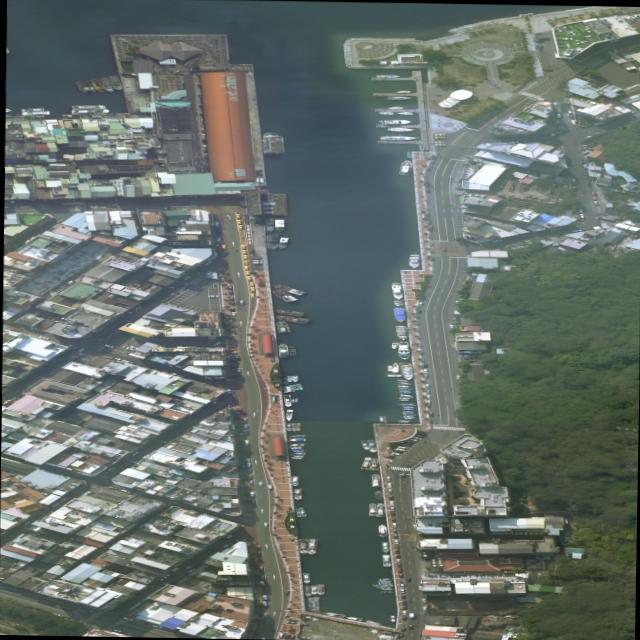large-vehicle: (381, 553, 390, 565), (408, 612, 413, 617)
ship: (260, 131, 283, 153), (269, 282, 305, 294), (267, 287, 297, 301), (273, 313, 309, 323), (272, 307, 303, 316), (74, 79, 95, 92), (397, 158, 412, 174), (69, 107, 109, 113), (98, 76, 114, 91), (106, 74, 122, 89), (397, 340, 409, 358), (391, 306, 405, 321), (390, 281, 402, 298), (378, 134, 418, 139), (89, 78, 104, 91), (273, 319, 289, 331), (400, 364, 413, 378), (394, 324, 407, 338), (265, 233, 277, 248), (276, 342, 288, 356), (407, 253, 419, 267), (305, 538, 316, 553), (377, 118, 410, 123), (322, 610, 345, 617), (359, 455, 371, 468), (19, 109, 49, 114), (276, 236, 288, 248), (70, 104, 105, 108), (263, 216, 273, 230), (273, 218, 284, 230), (366, 438, 376, 451), (297, 538, 306, 552), (376, 523, 386, 535), (362, 618, 382, 624), (385, 126, 413, 130), (285, 344, 296, 354), (385, 95, 412, 99), (283, 408, 292, 420), (375, 502, 383, 515), (370, 472, 378, 485), (19, 107, 44, 111), (368, 457, 377, 468), (282, 393, 290, 405), (367, 502, 375, 514), (344, 615, 362, 620), (302, 584, 310, 595), (292, 487, 300, 498), (459, 349, 486, 352), (359, 439, 368, 448), (380, 541, 388, 551), (301, 572, 309, 581), (297, 506, 305, 515), (373, 489, 381, 498), (374, 73, 398, 76), (390, 361, 397, 371), (316, 583, 323, 593), (370, 582, 393, 585), (396, 110, 412, 114), (290, 475, 297, 484), (293, 507, 300, 515), (388, 612, 395, 620), (388, 341, 397, 347), (310, 584, 316, 593), (287, 437, 305, 440), (284, 421, 290, 430), (376, 110, 393, 113), (288, 384, 295, 391), (397, 401, 413, 404), (288, 433, 304, 436), (291, 383, 299, 389), (394, 89, 409, 92), (289, 442, 304, 445), (290, 421, 295, 430), (392, 299, 399, 305), (288, 455, 302, 458), (284, 384, 291, 390), (285, 374, 291, 381), (291, 374, 297, 381), (398, 392, 411, 395), (395, 380, 408, 383), (395, 378, 407, 381), (401, 409, 413, 412), (400, 410, 412, 413), (289, 445, 301, 448), (291, 453, 303, 456), (377, 415, 383, 421), (385, 363, 390, 370), (373, 585, 390, 587), (403, 415, 414, 418), (385, 373, 401, 375), (386, 105, 402, 107), (295, 421, 299, 429), (375, 579, 390, 581), (398, 419, 411, 421), (305, 597, 318, 599), (398, 390, 410, 392), (396, 385, 408, 387), (396, 384, 408, 386), (291, 449, 303, 451), (306, 607, 318, 609), (380, 587, 392, 589), (377, 577, 389, 579), (402, 405, 413, 407), (397, 398, 408, 400), (397, 396, 408, 398), (402, 414, 413, 416), (293, 451, 304, 453), (307, 602, 318, 604), (306, 599, 317, 601), (306, 604, 317, 606), (293, 396, 297, 401), (377, 581, 391, 582), (290, 397, 293, 401), (306, 596, 318, 597), (306, 601, 318, 602), (402, 407, 413, 408), (398, 389, 409, 390), (307, 606, 318, 607)
small-vehicle: (417, 428, 428, 433), (138, 596, 148, 601), (48, 501, 58, 506), (211, 340, 221, 345), (393, 446, 405, 450), (150, 623, 162, 627), (105, 465, 114, 470), (410, 435, 421, 439), (403, 438, 414, 442), (396, 444, 407, 448), (382, 454, 393, 458), (133, 617, 144, 621), (121, 615, 132, 619), (127, 344, 138, 348), (28, 325, 39, 329), (37, 334, 48, 338), (119, 488, 130, 492), (111, 627, 121, 631), (8, 327, 18, 331), (413, 433, 423, 437), (415, 431, 425, 435), (130, 491, 140, 495), (126, 605, 135, 609), (131, 601, 140, 605), (186, 567, 195, 571), (81, 490, 90, 494), (537, 36, 549, 39), (56, 497, 65, 501), (129, 450, 138, 454), (202, 260, 211, 264), (203, 270, 212, 274), (224, 387, 233, 391), (242, 428, 249, 433), (282, 632, 289, 637), (399, 442, 410, 445), (389, 451, 400, 454), (533, 39, 544, 42), (580, 149, 588, 153), (223, 533, 231, 537), (181, 274, 189, 278), (392, 449, 402, 452), (416, 300, 422, 305), (130, 343, 140, 346), (569, 118, 575, 123), (243, 439, 249, 444), (400, 599, 406, 604), (283, 588, 288, 594), (124, 346, 134, 349), (102, 343, 112, 346), (79, 357, 89, 360), (106, 485, 116, 488), (276, 631, 282, 636), (288, 633, 294, 638), (202, 375, 212, 378), (393, 548, 400, 552), (427, 411, 434, 415), (394, 553, 401, 557), (408, 437, 417, 440), (385, 452, 394, 455), (386, 481, 391, 486), (386, 487, 391, 492), (423, 382, 428, 387), (422, 362, 427, 367), (422, 367, 427, 372), (388, 499, 393, 504), (391, 521, 396, 526), (592, 199, 597, 204), (577, 207, 582, 212), (234, 212, 239, 217), (212, 220, 217, 225), (401, 615, 406, 620), (248, 490, 253, 495), (266, 483, 271, 488), (240, 248, 245, 253), (241, 253, 246, 258), (249, 285, 254, 290), (257, 480, 262, 485), (447, 323, 453, 327), (534, 43, 542, 46), (243, 270, 249, 274), (247, 281, 253, 285), (433, 135, 444, 137), (160, 195, 171, 197), (206, 294, 217, 296), (250, 260, 261, 262), (133, 305, 140, 308), (425, 399, 430, 403), (433, 142, 443, 144), (385, 475, 390, 479), (425, 393, 430, 397), (422, 373, 427, 377), (433, 132, 443, 134), (389, 505, 393, 510), (420, 597, 425, 601), (417, 584, 421, 589), (421, 605, 425, 610), (401, 609, 406, 613), (399, 587, 403, 592), (405, 576, 410, 580), (397, 572, 402, 576), (393, 538, 398, 542), (432, 140, 442, 142), (555, 112, 560, 116), (590, 195, 595, 199), (578, 212, 583, 216), (593, 215, 598, 219), (235, 219, 240, 223), (236, 224, 241, 228), (214, 236, 219, 240), (257, 565, 262, 569), (255, 544, 260, 548), (285, 620, 295, 622), (262, 611, 267, 615), (239, 243, 244, 247), (220, 243, 225, 247), (242, 259, 247, 263), (251, 258, 261, 260), (242, 264, 247, 268), (245, 275, 250, 279), (248, 292, 253, 296), (238, 299, 243, 303), (230, 310, 234, 315), (235, 367, 240, 371), (241, 417, 246, 421), (242, 423, 247, 427), (244, 457, 249, 461), (245, 461, 250, 465), (247, 478, 252, 482), (533, 46, 542, 48), (441, 246, 445, 250), (408, 624, 412, 628), (399, 626, 403, 630), (401, 604, 405, 608), (399, 582, 403, 586), (396, 562, 400, 566), (395, 557, 399, 561), (392, 533, 396, 537), (552, 101, 556, 105), (262, 521, 266, 525), (228, 295, 232, 299), (229, 306, 233, 310), (246, 474, 251, 477), (424, 389, 428, 392), (390, 517, 394, 520), (400, 594, 404, 597), (394, 544, 398, 547)
storage-tank: (633, 13, 640, 17), (626, 15, 633, 18), (615, 17, 620, 20)
